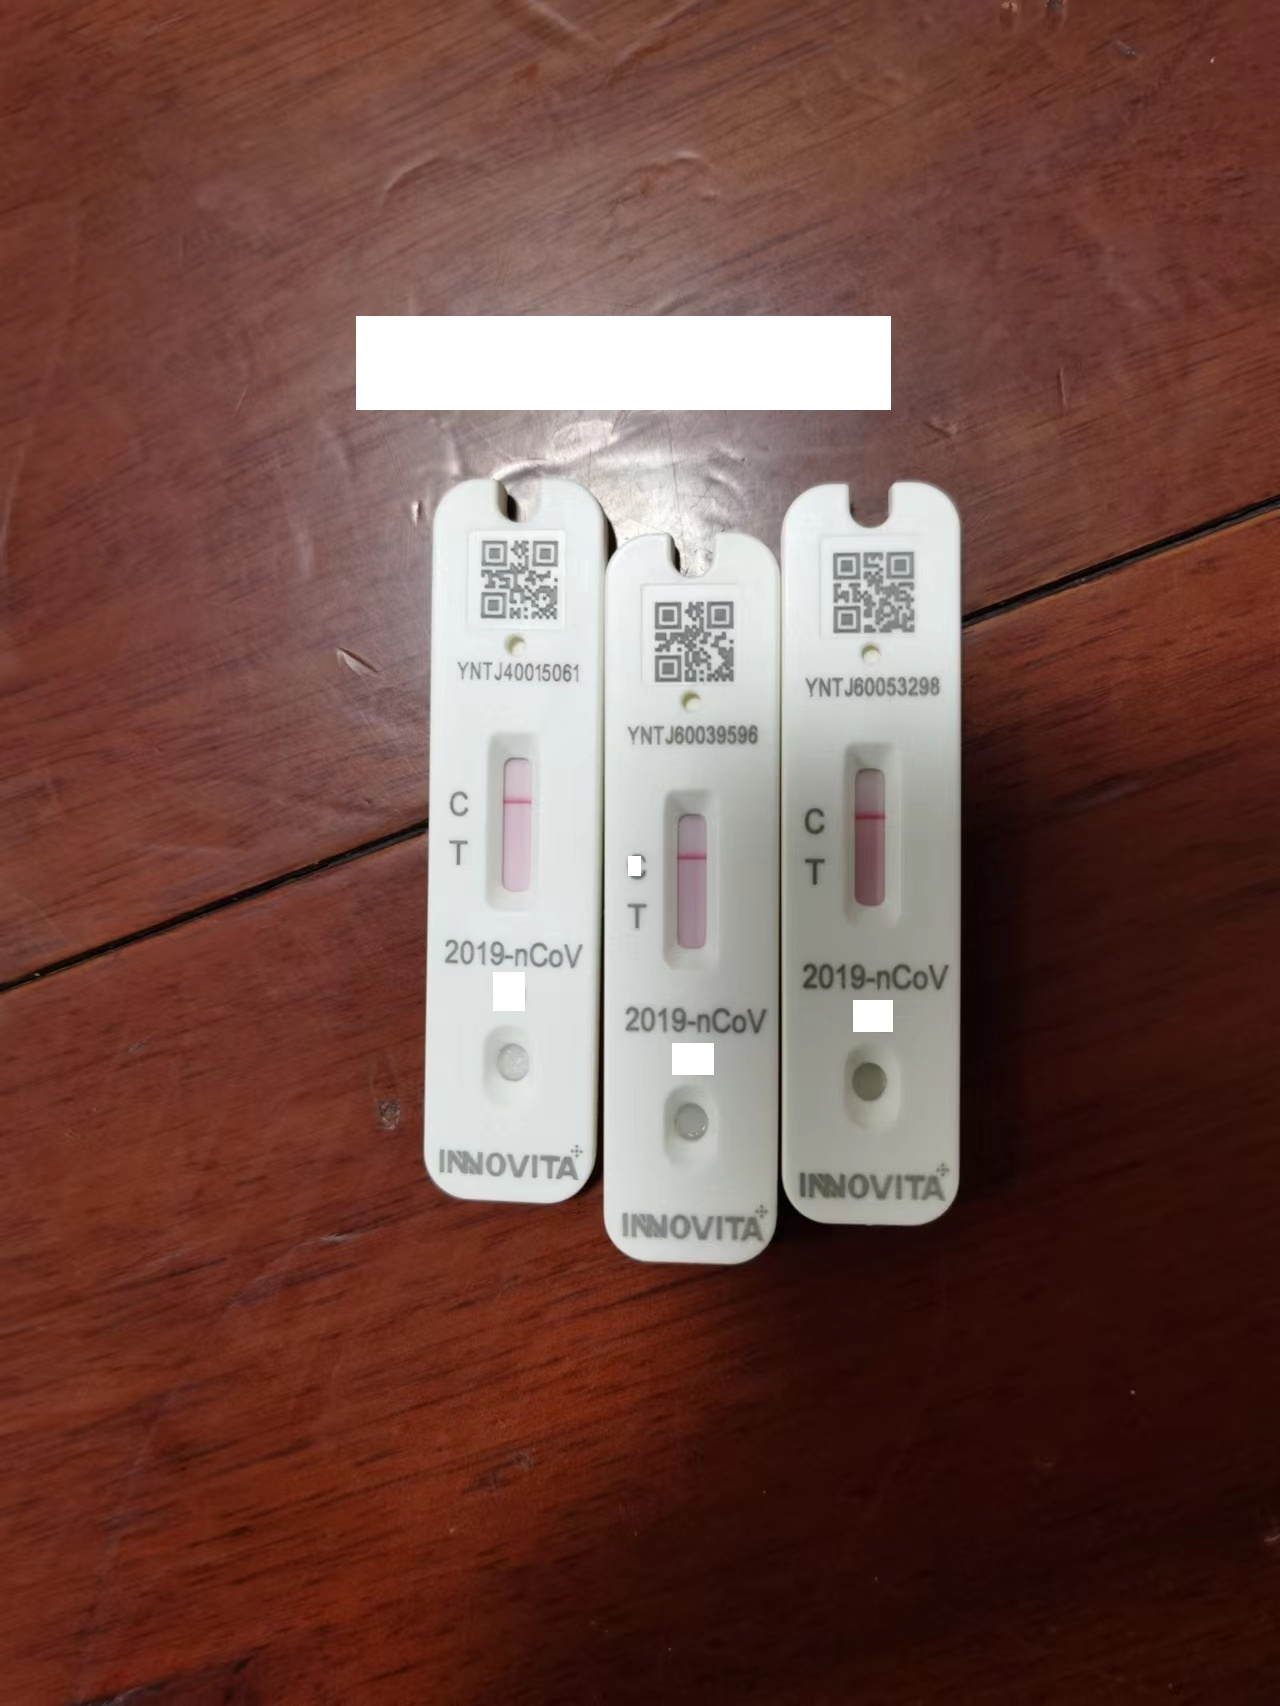negative: (839, 742, 904, 924), (659, 788, 722, 963), (485, 733, 545, 909)
